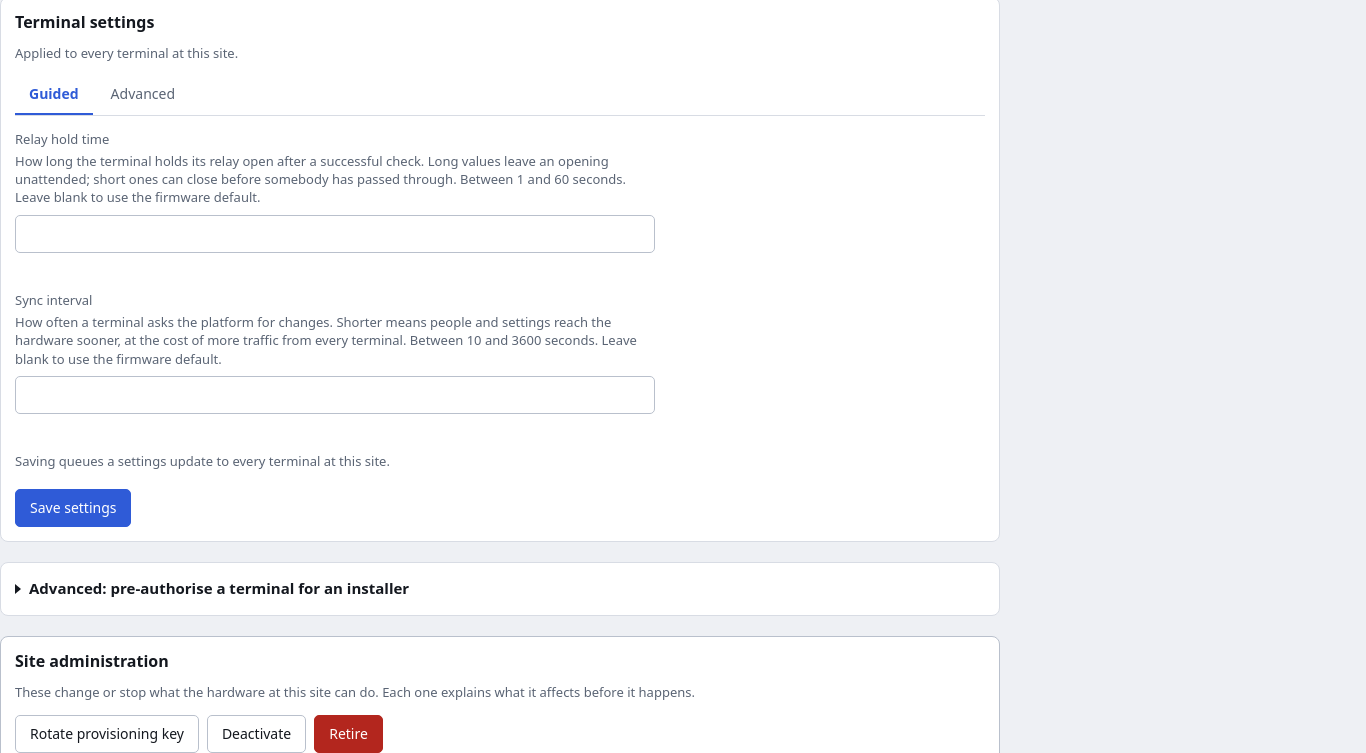
Test: the site offers a claim code as the advanced path › keeps the claim code, behind Advanced, and not as the primary action
The width and height of the screenshot is (1366, 753).
(page scrolled)
Note: Reachable, and honest about what it is for.
Click the heading "Advanced: pre-authorise a terminal for an installer". click: click(219, 588)
box: [29,578,409,598]
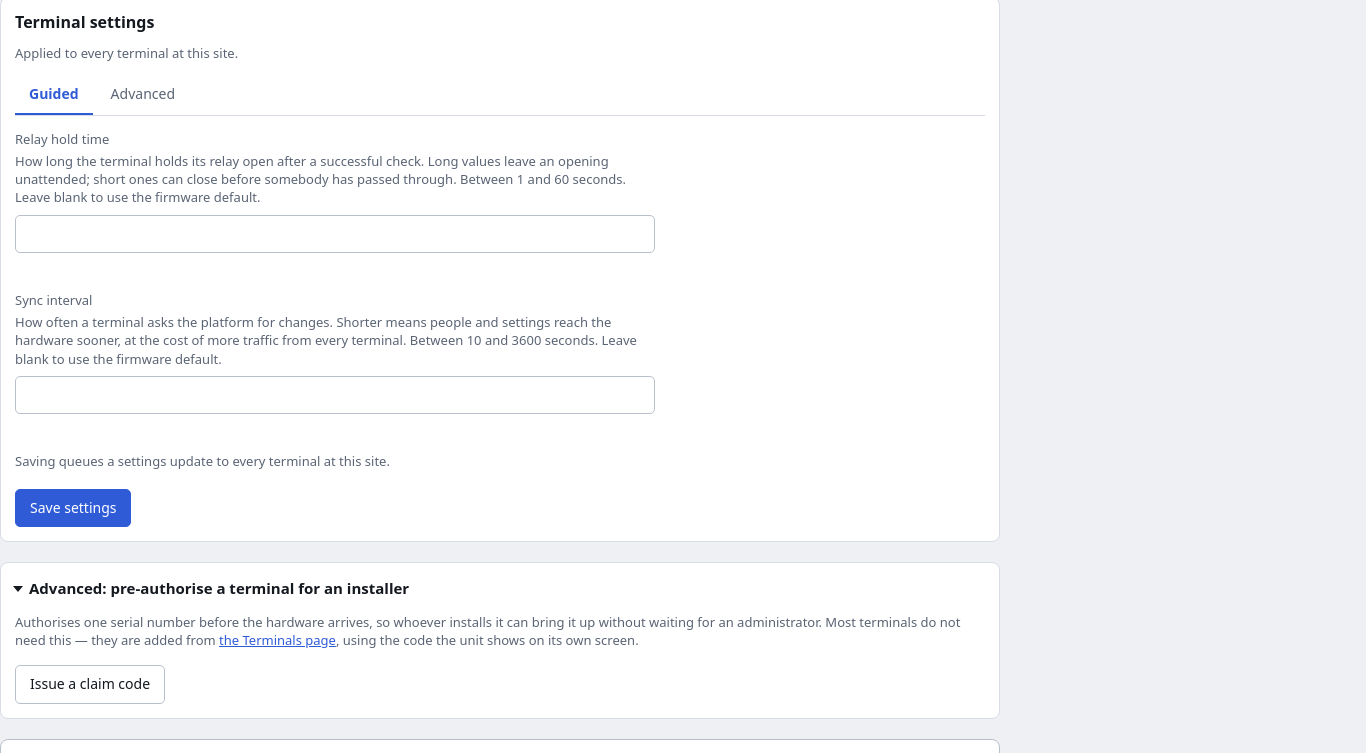
expect the text "before the hardware arrives" is shown: met, box [15,613,960,649]
expect the button "Issue a claim code" is shown: met, box [15,665,165,704]
expect the link "the Terminals page" is shown: met, box [219,627,336,653]
